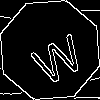W: (25, 25, 88, 87)
